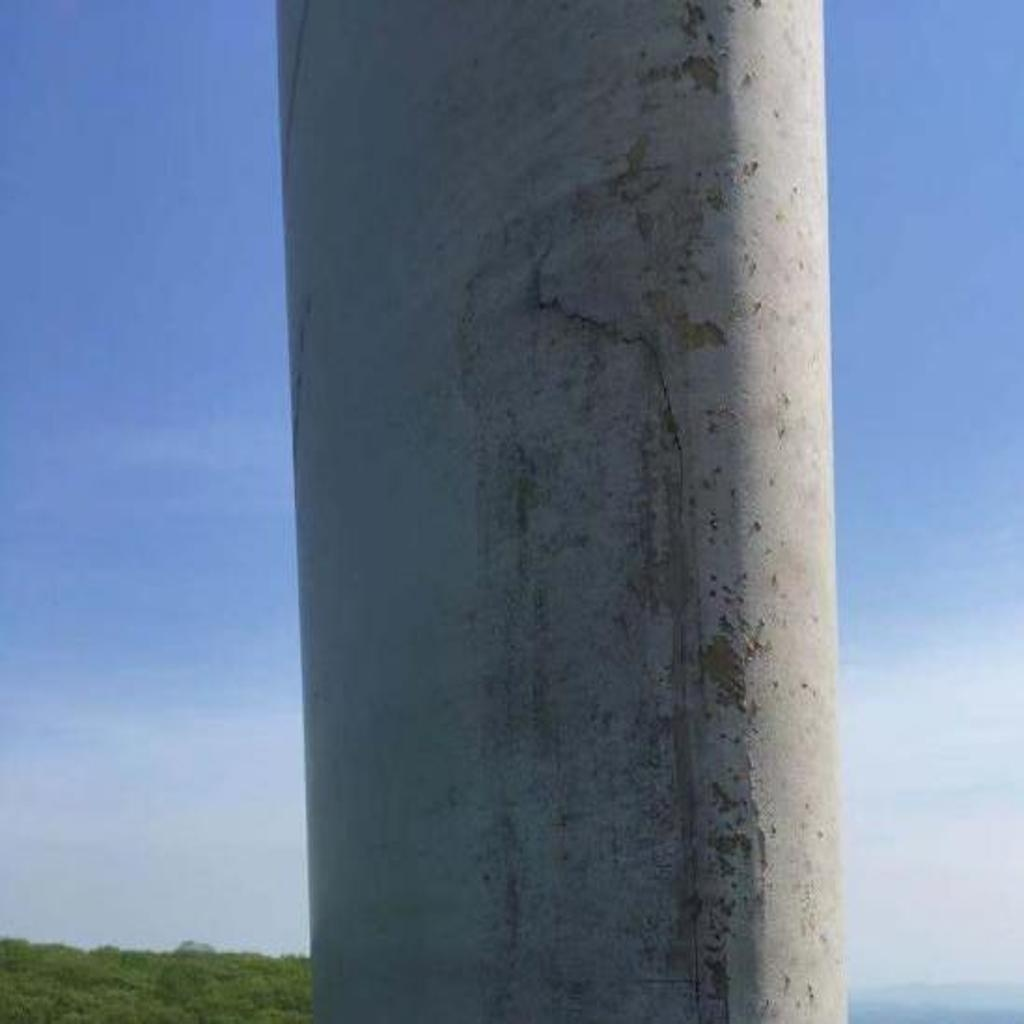corrosion: (511, 13, 830, 1016)
